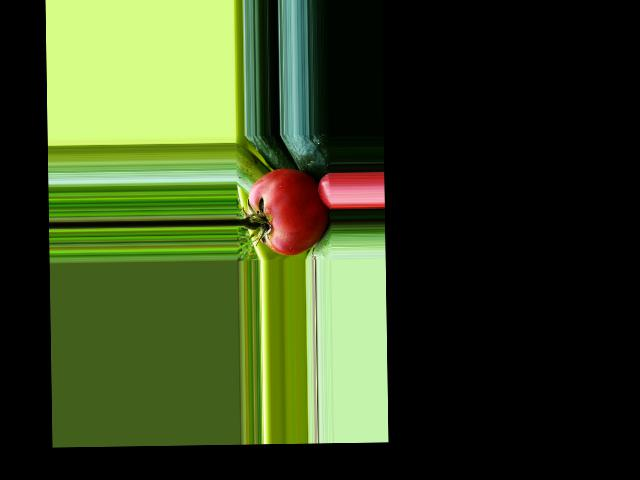tomato: (248, 168, 330, 256)
